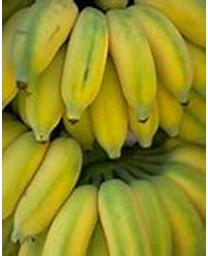banana: (2, 1, 205, 255)
